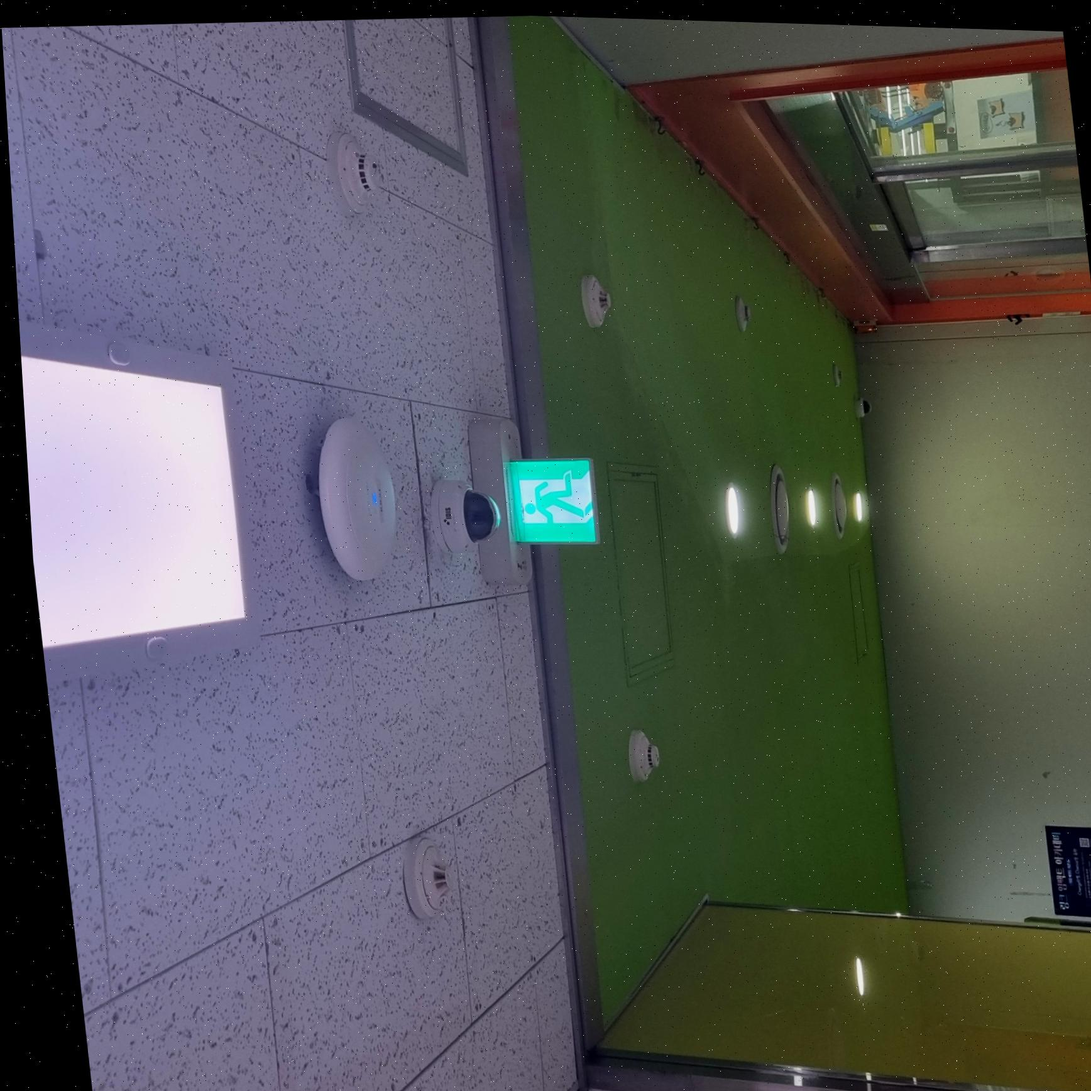emergency_exit: (503, 456, 600, 546)
